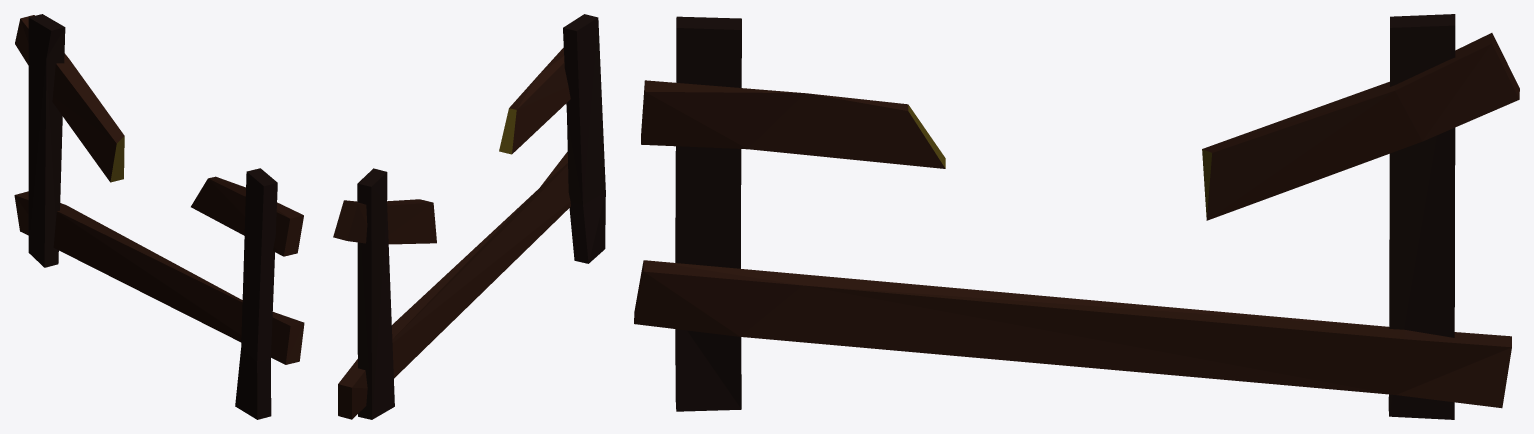
File: zabor c.FBX
The picture shows the model from 3 angles, left to right: view 1: azimuth 30°, elevation 25°; view 2: azimuth 150°, elevation 25°; view 3: azimuth 270°, elevation 25°; orthographic projection. The views are drawn at different scales.
Visible parts, largest first — view 1: zabor c; view 2: zabor c; view 3: zabor c.
Boxes of the visible parts, box(x1,y1,x2,y2) form: zabor c: box(14, 14, 304, 419); zabor c: box(333, 14, 605, 419); zabor c: box(634, 14, 1519, 419).
Size of the model in its own units: 0.2811 by 3.18 by 1.57.
